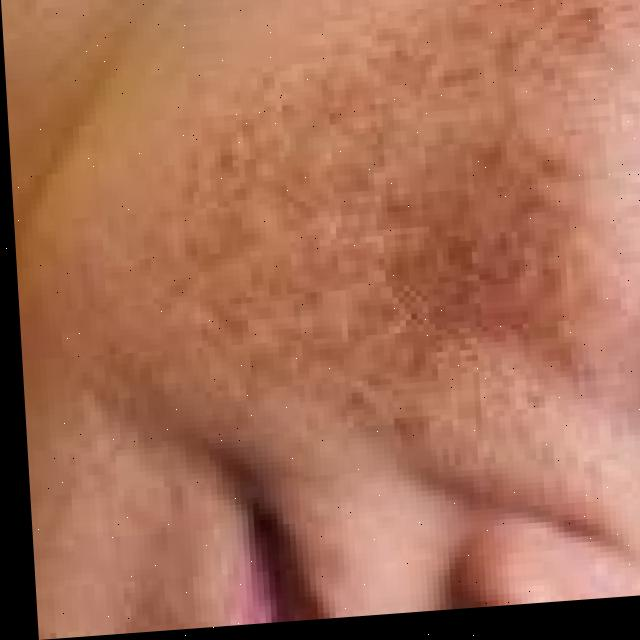Melasma: (175, 0, 624, 345)
